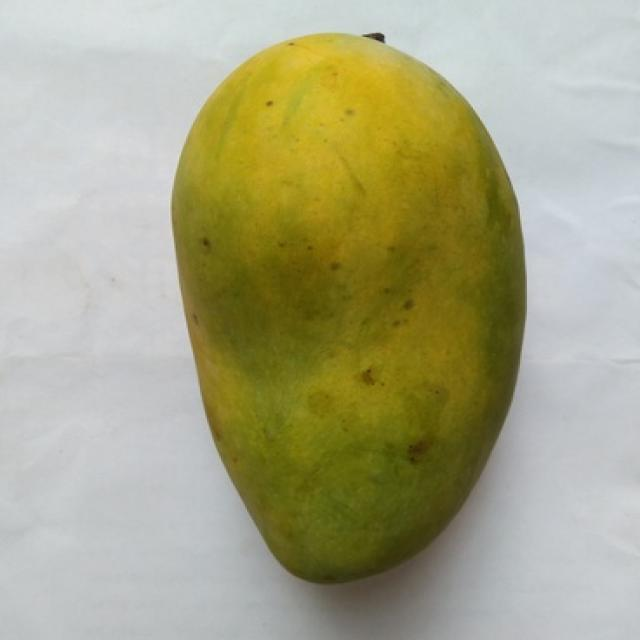Mango: (172, 34, 523, 582)
